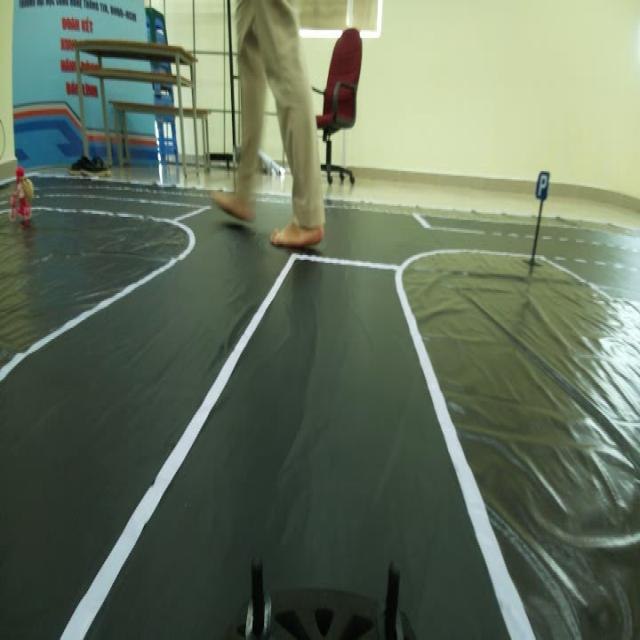parking: (532, 166, 551, 203)
